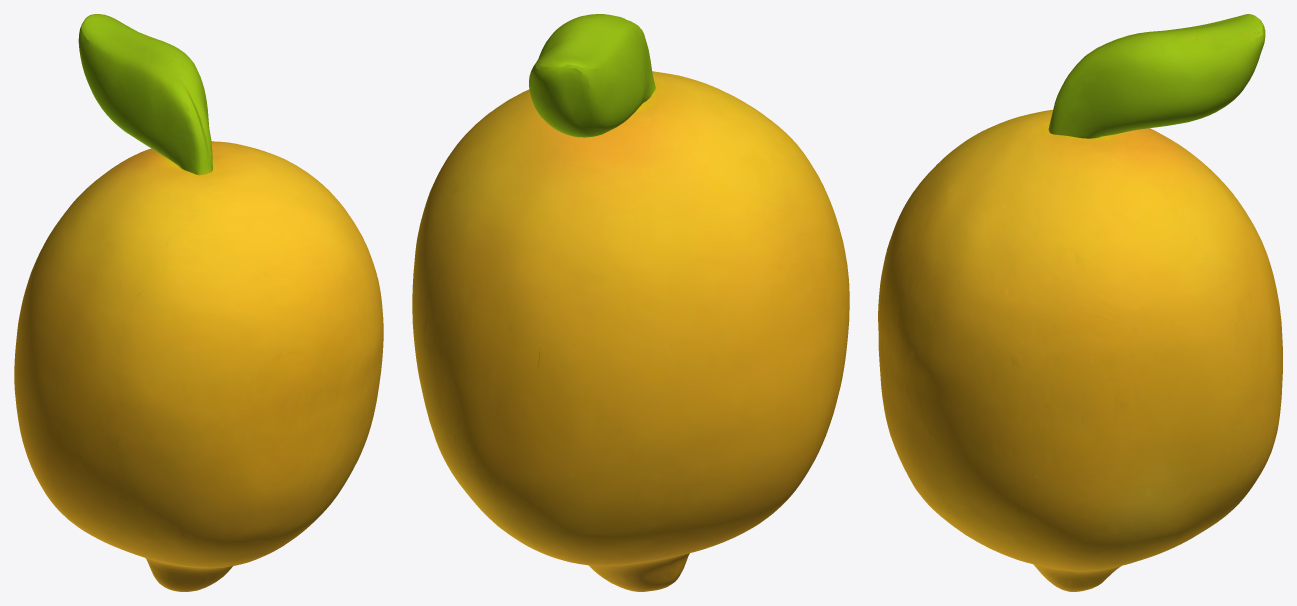
The model's file is lemon.glb.
The picture shows the model from 3 angles, left to right: view 1: azimuth 30°, elevation 25°; view 2: azimuth 150°, elevation 25°; view 3: azimuth 270°, elevation 25°; orthographic projection. The views are drawn at different scales.
Visible parts, largest first — view 1: model; view 2: model; view 3: model.
Part boxes in pixels (<box>): model: <box>14,14,383,591</box>; model: <box>412,14,849,591</box>; model: <box>878,14,1282,591</box>.
Bounding box in the file's own units: 0.6588 × 1 × 0.6549.
1 material, 1 textured.
